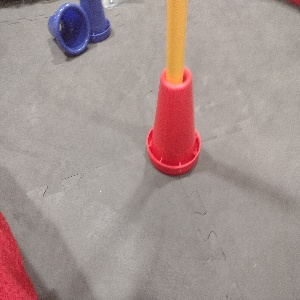Blue_1: (45, 3, 91, 56), (77, 0, 112, 42)
Red_1: (146, 63, 200, 175)
